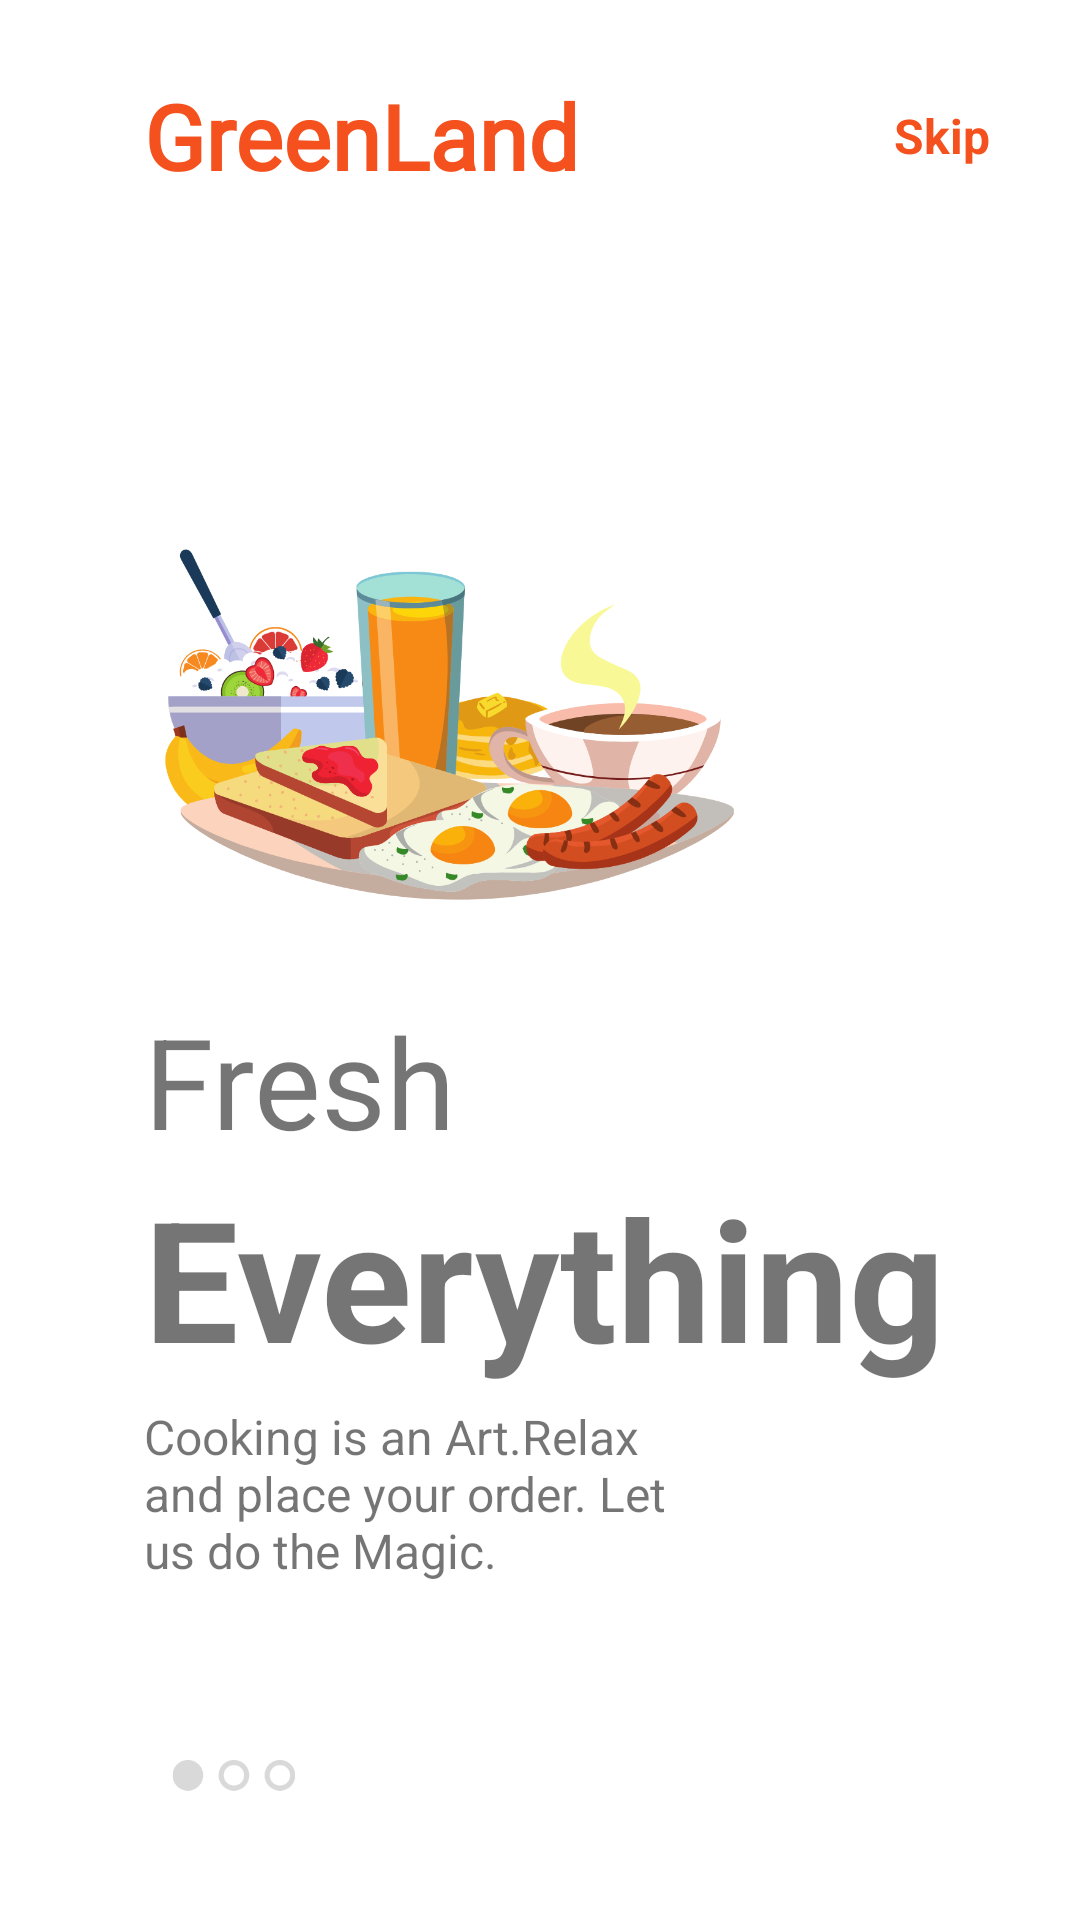

Screen size 1080 × 1920. Icon name, then its center in pixels as point (x, y):
tab: point (234, 1775)
